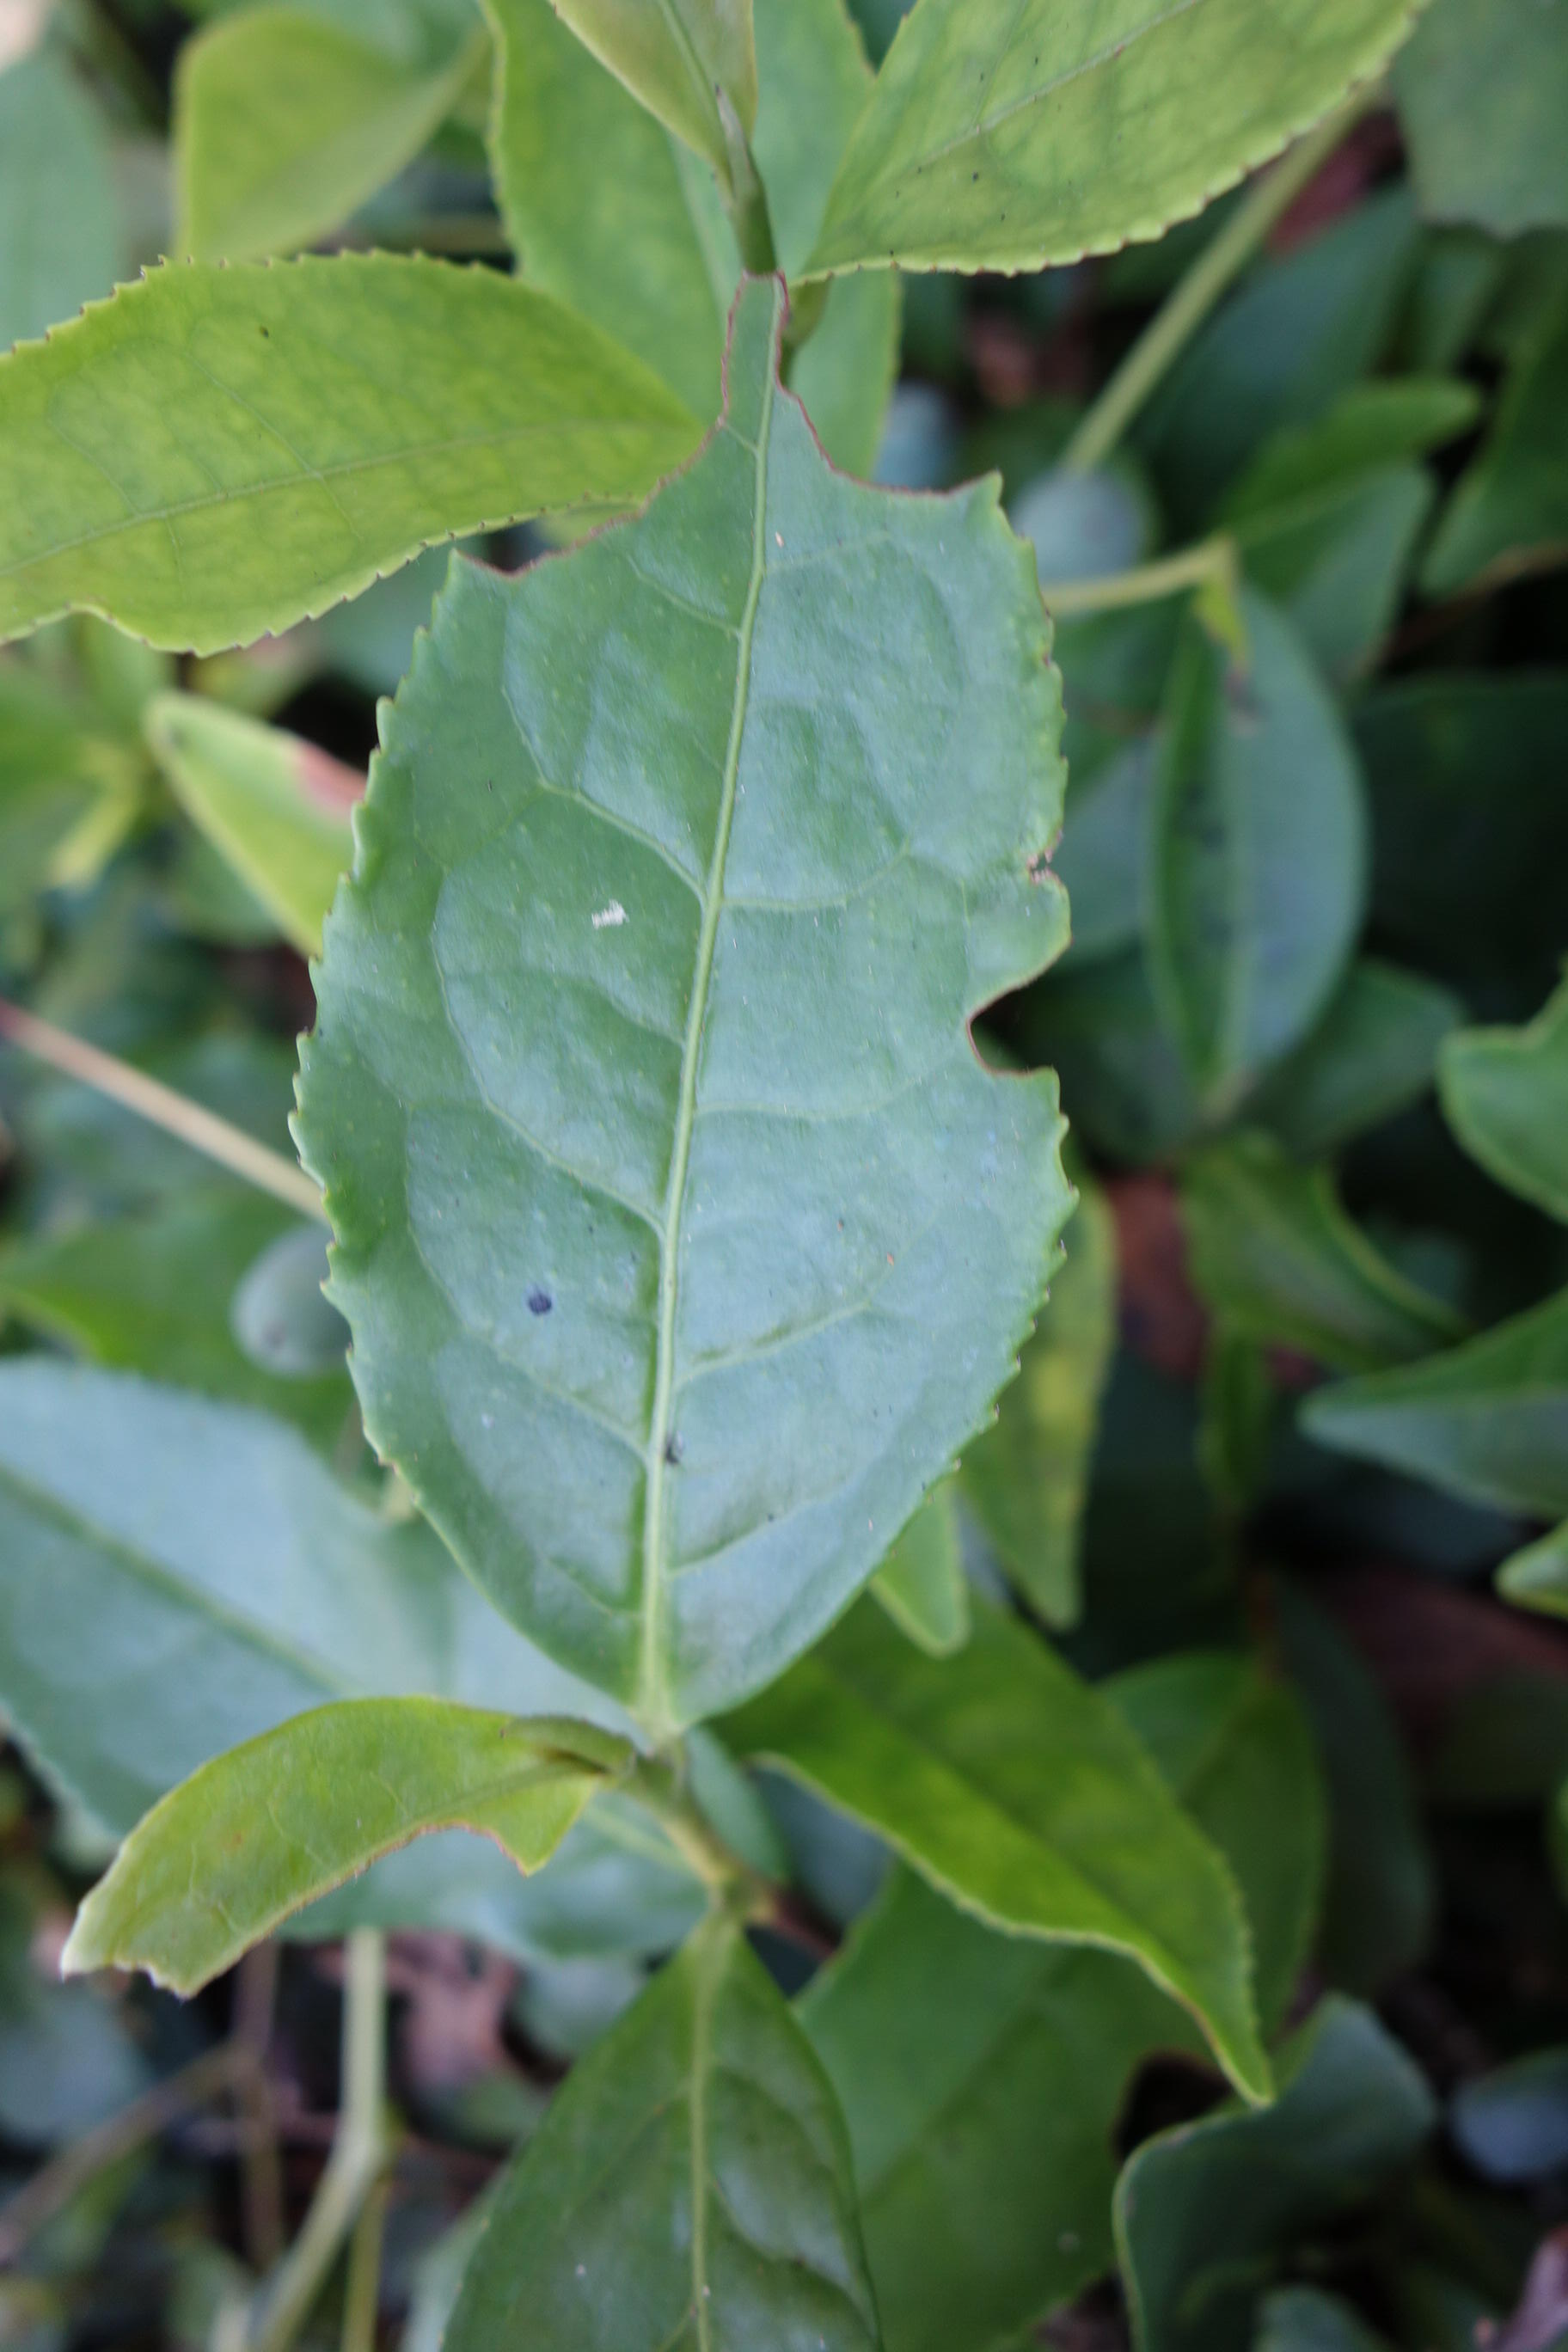chihuo_high: (283, 275, 1090, 1731), (51, 1692, 661, 2005)
